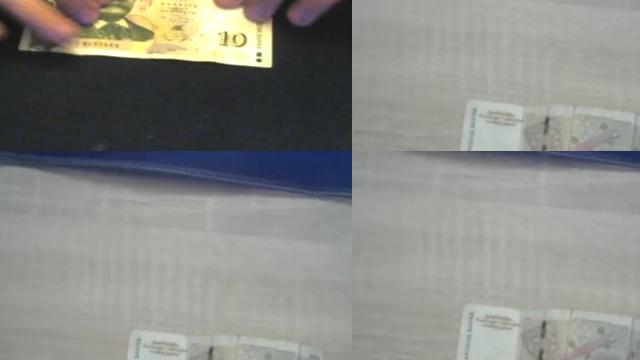10leva: (21, 0, 272, 70), (455, 304, 640, 360), (458, 100, 640, 151)
